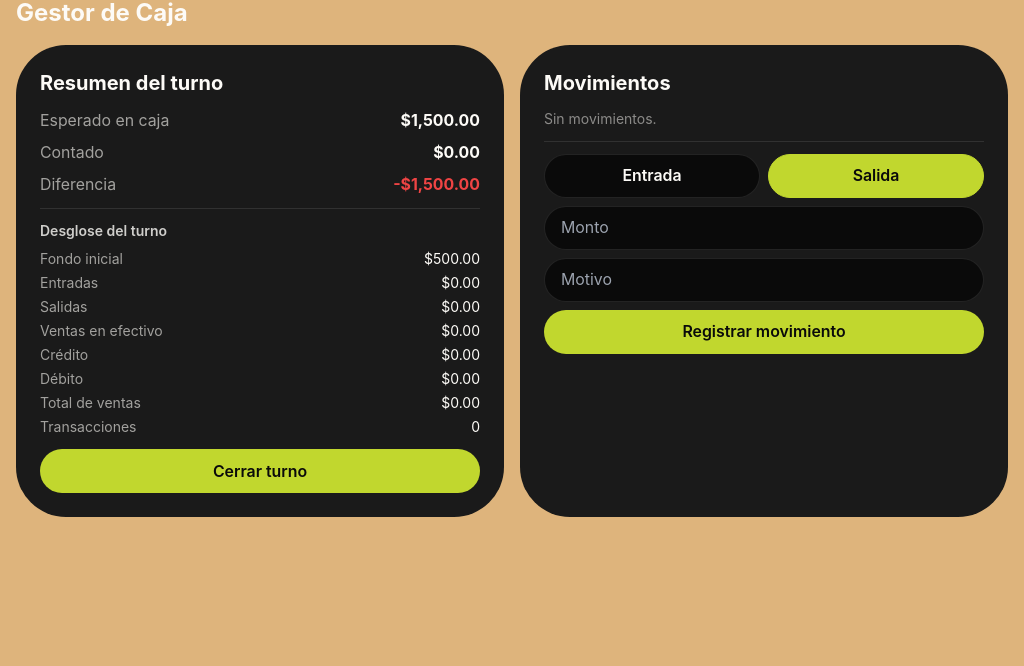
Test: F10.6.1 — criterio 3: borrar y limpiar › ← borra el último carácter
The width and height of the screenshot is (1024, 666).
expect the heading "Resumen del turno" is shown: met, box [40, 71, 223, 95]
Focus the field with test id "campo-montoMov". click: (764, 228)
box: [544, 206, 984, 250]
(page scrolled)
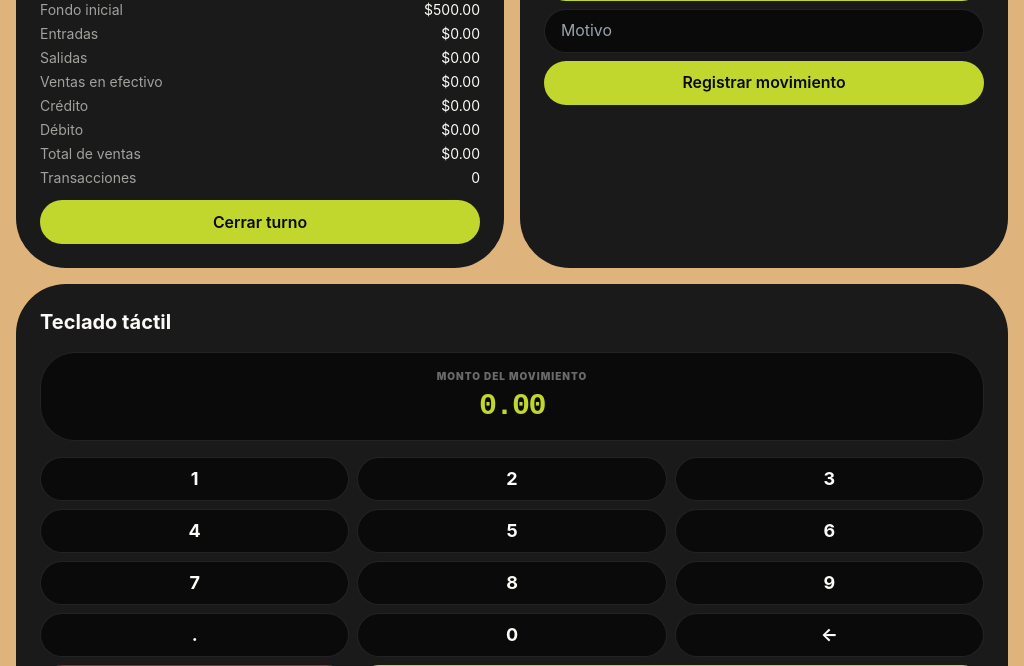
Click the button "1". click: (195, 479)
box: [40, 457, 349, 501]
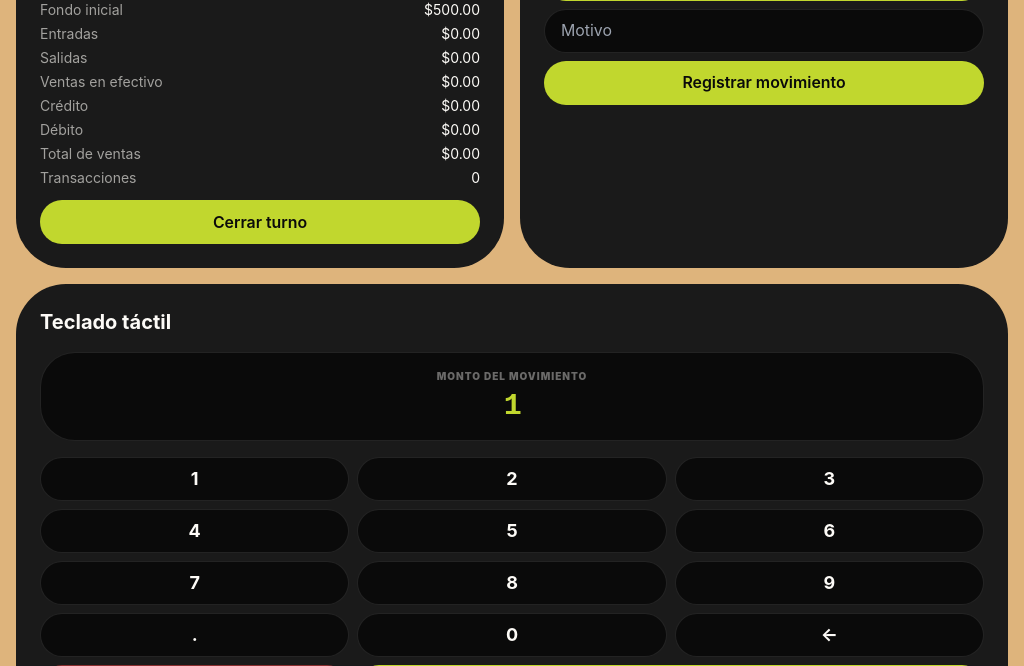
Click the button "2". click: (512, 479)
box: [357, 457, 667, 501]
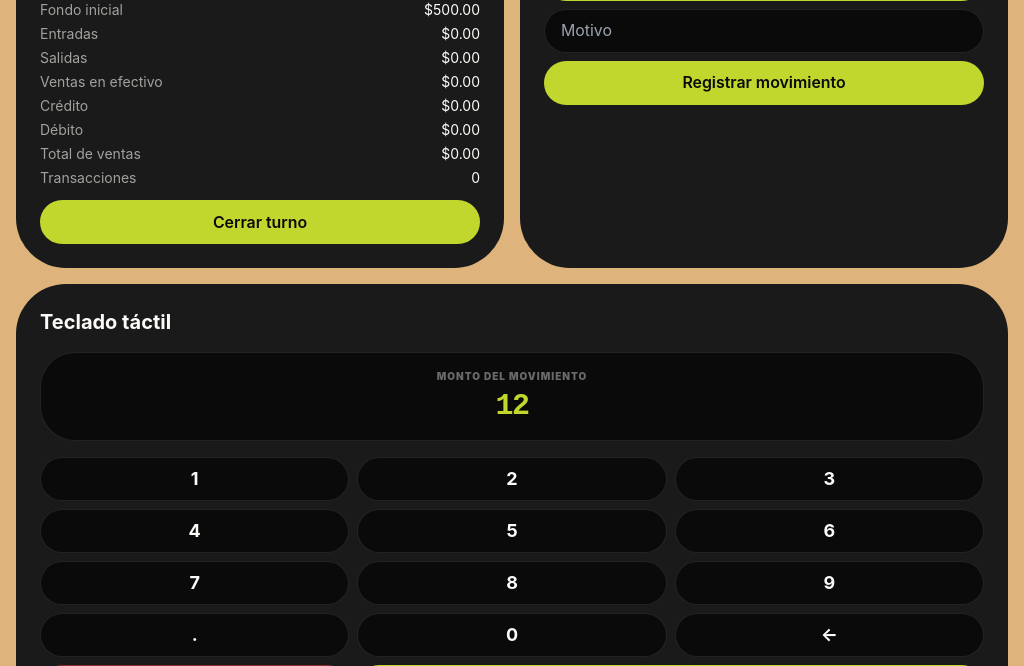
Click the button "3". click: (829, 479)
box: [675, 457, 984, 501]
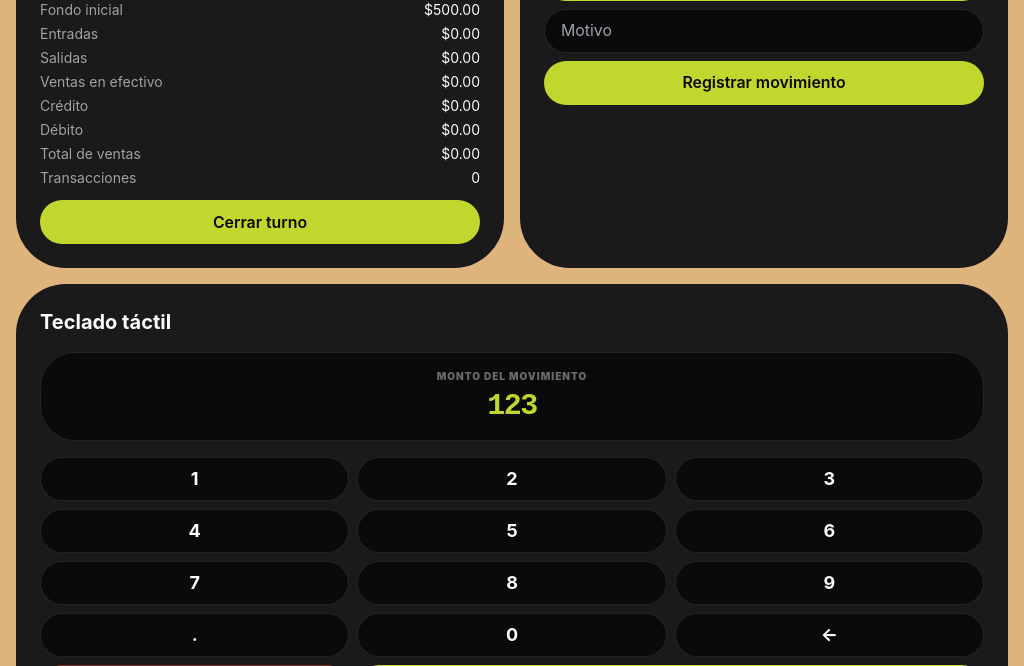
Click the button "←". click: (829, 635)
box: [675, 613, 984, 657]
(page scrolled)
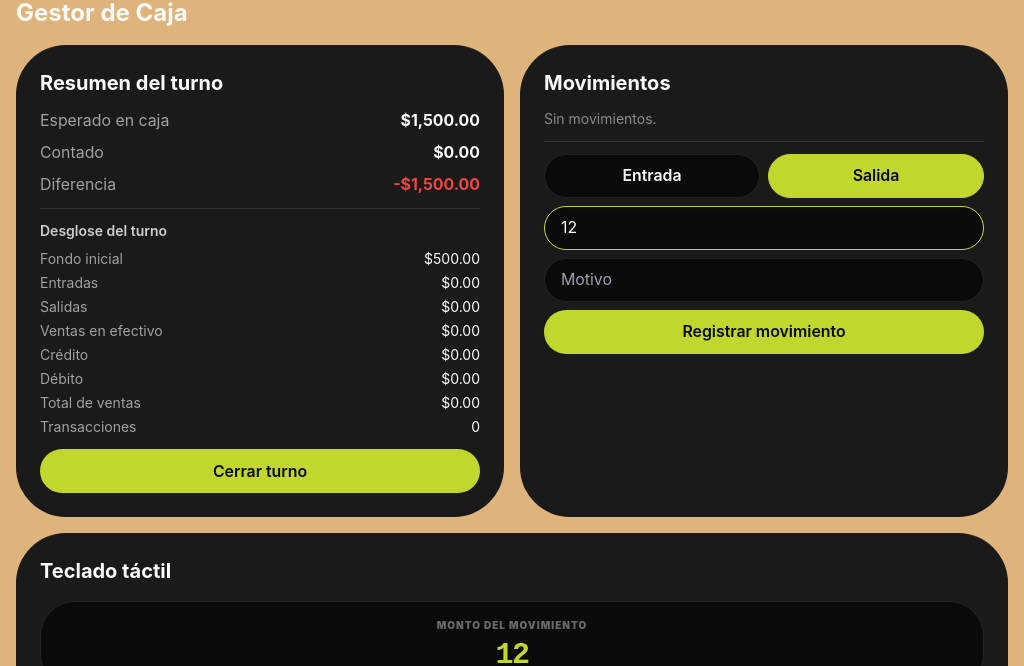
expect the field with test id "campo-montoMov" holds "12": met, box [544, 206, 984, 250]
